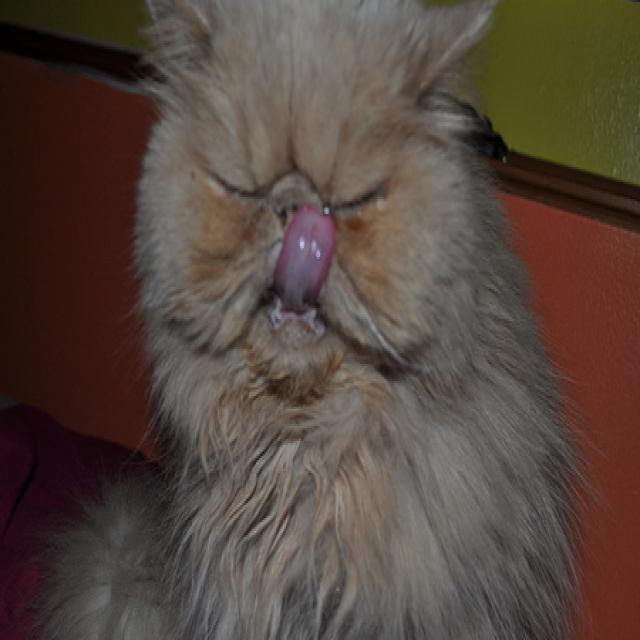Persian: (34, 0, 590, 640)
